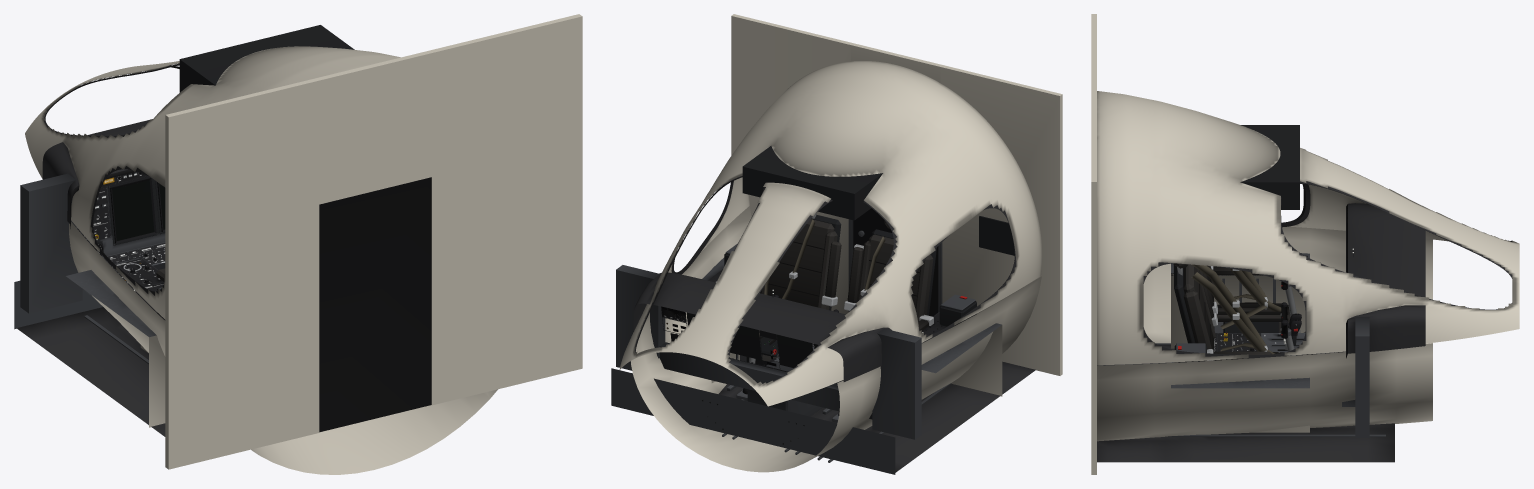
Rendered from aurelia.glb.
3 views of the same model, side by side, from view 1: azimuth 30°, elevation 25°; view 2: azimuth 150°, elevation 25°; view 3: azimuth 270°, elevation 25° (orthographic). The views are drawn at different scales.
Parts seen in each view (by area): view 1: Static_liner, Static_cover, Static_paint_dark, Static_paint, Static_carpet, Static_atlas, Static_black, Screen_PFD__screen, Static_knob, Static_rubber; view 2: Static_liner, Static_paint, Static_paint_dark, Static_cover, Static_black, Static_cushion, Static_carpet, Static_atlas, Static_metal_dark, Static_webbing, Static_rubber, Static_metal; view 3: Static_liner, Static_paint_dark, Static_cover, Static_carpet, Static_black, Static_cushion, Static_webbing, Static_paint, Static_atlas, Static_metal_dark, Static_rubber, Static_fabric.
Boxes of the visible parts, x1,y1,x2,y2 form: Static_liner: [25, 14, 582, 469]; Static_cover: [42, 63, 431, 432]; Static_paint_dark: [69, 222, 497, 474]; Static_paint: [14, 173, 165, 329]; Static_carpet: [16, 307, 165, 436]; Static_atlas: [66, 171, 165, 337]; Static_black: [90, 25, 354, 317]; Screen_PFD__screen: [112, 180, 154, 240]; Static_knob: [77, 172, 165, 294]; Static_rubber: [45, 64, 179, 263]; Static_liner: [619, 14, 1062, 406]; Static_paint: [611, 244, 975, 474]; Static_paint_dark: [630, 206, 1041, 472]; Static_cover: [633, 176, 1016, 381]; Static_black: [661, 146, 1014, 384]; Static_cushion: [759, 219, 933, 361]; Static_carpet: [718, 361, 1035, 472]; Static_atlas: [661, 257, 1001, 373]; Static_metal_dark: [663, 219, 951, 462]; Static_webbing: [759, 219, 885, 336]; Static_rubber: [636, 177, 1014, 415]; Static_metal: [736, 213, 933, 359]; Static_liner: [1091, 14, 1519, 474]; Static_paint_dark: [1097, 226, 1432, 441]; Static_cover: [1143, 181, 1512, 358]; Static_carpet: [1097, 345, 1394, 462]; Static_black: [1171, 125, 1338, 362]; Static_cushion: [1173, 263, 1290, 360]; Static_webbing: [1192, 264, 1281, 354]; Static_paint: [1176, 278, 1369, 437]; Static_atlas: [1171, 253, 1343, 388]; Static_metal_dark: [1097, 250, 1385, 436]; Static_rubber: [1272, 183, 1512, 358]; Static_fabric: [1199, 279, 1288, 356].
Bounding box in the file's own units: 2.2 × 2.05 × 2.37.
25 materials, 2 textured.
